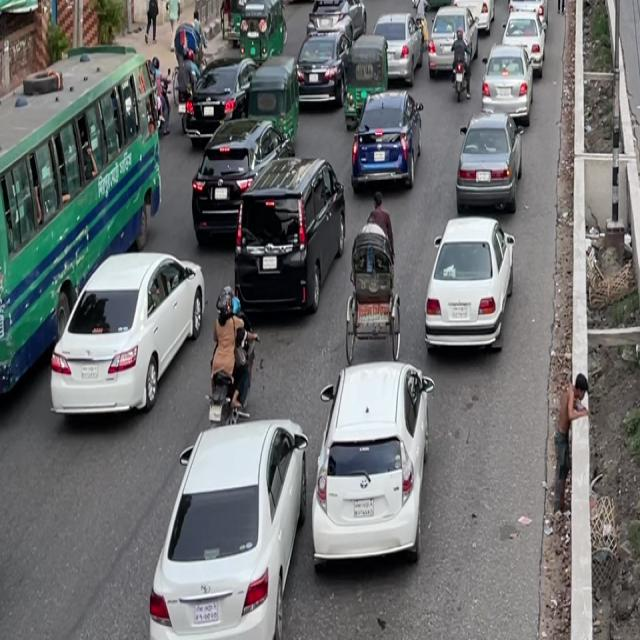car: (142, 408, 319, 636), (32, 226, 217, 436), (299, 341, 440, 581), (230, 147, 349, 327), (416, 202, 521, 374), (186, 118, 288, 253), (349, 84, 424, 204), (452, 102, 525, 222), (291, 19, 351, 116), (479, 35, 535, 131), (372, 1, 422, 86), (422, 2, 468, 86), (507, 0, 547, 73), (451, 0, 496, 38), (508, 0, 546, 11)
motorbike: (203, 282, 266, 430)
rickshaw: (246, 59, 301, 142), (342, 30, 388, 126), (233, 0, 290, 71), (422, 0, 457, 13), (283, 0, 321, 6)
